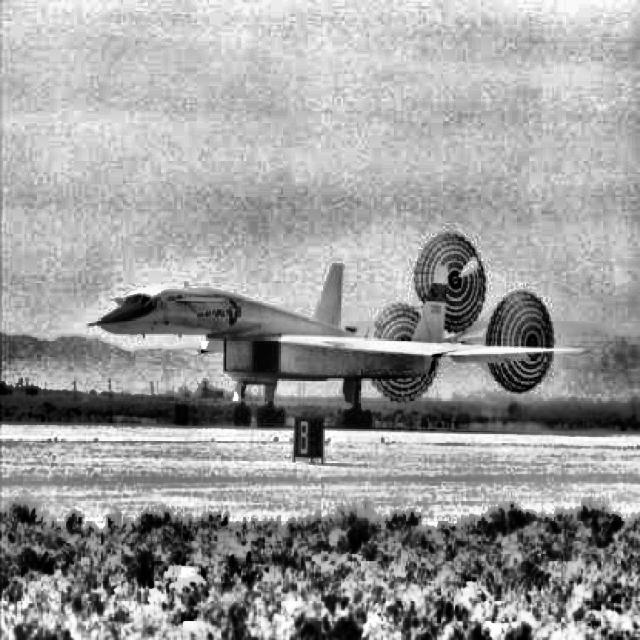XB70: (85, 262, 586, 429)
